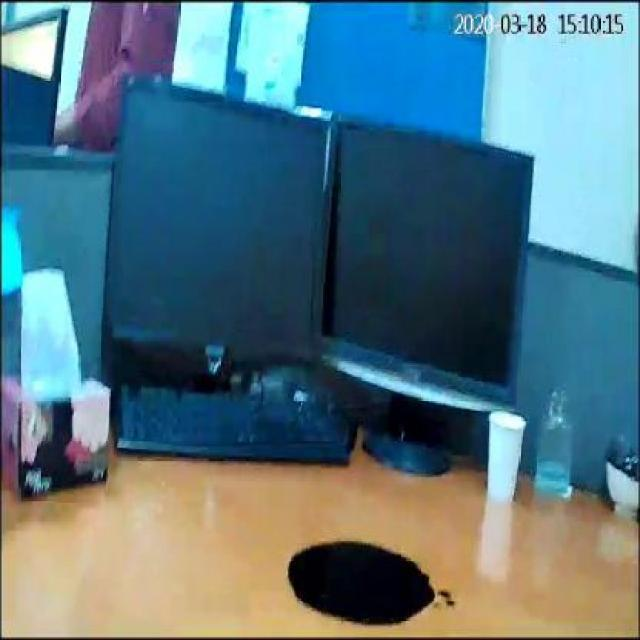spill: (278, 539, 434, 624)
